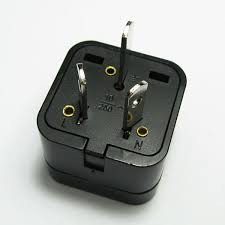Three_eye_plug: (30, 17, 192, 212)
